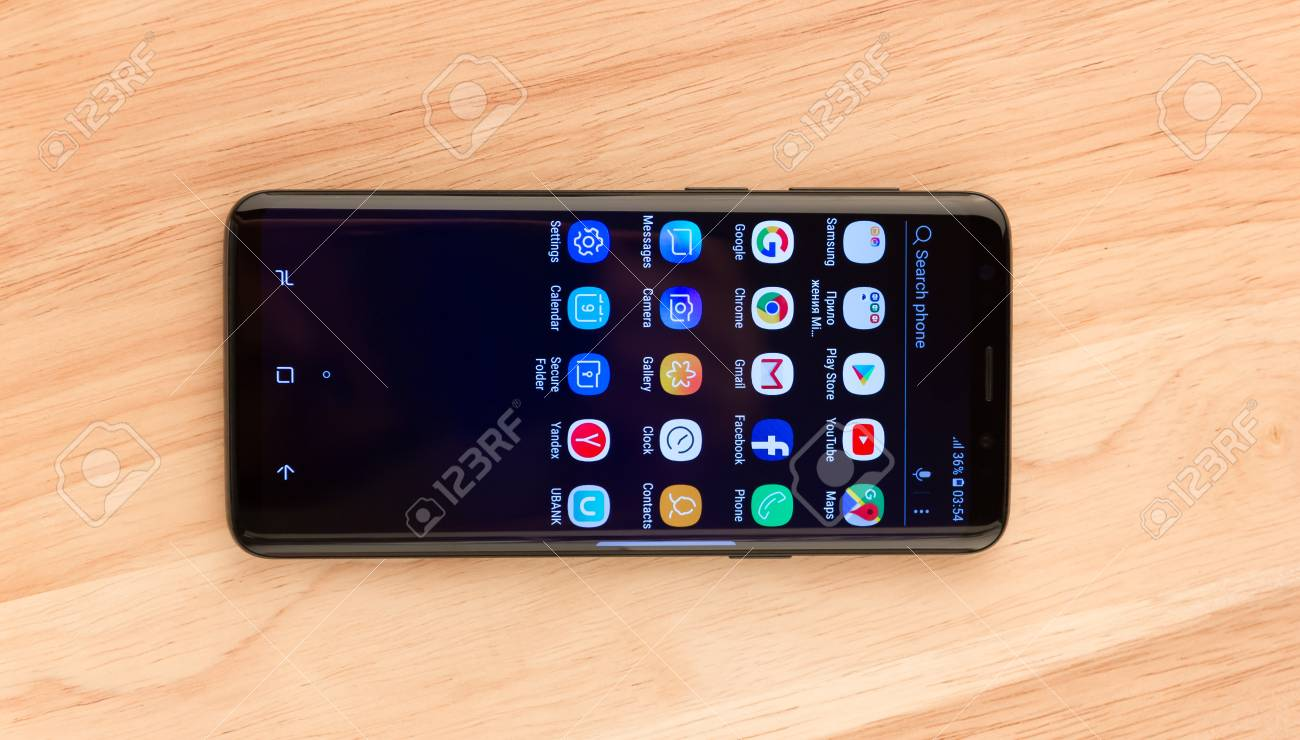Cell Phone: (218, 184, 1019, 559)
